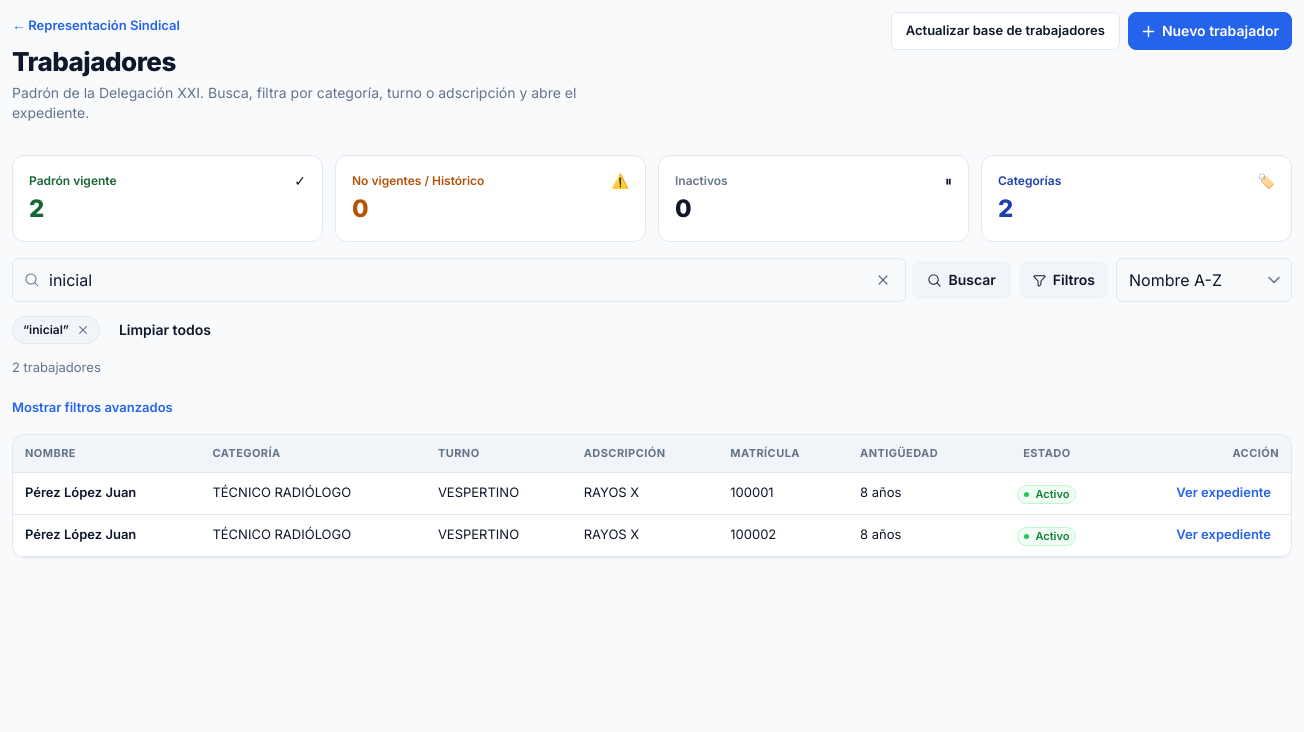
Test: Directorio de trabajadores · búsqueda › el botón de limpiar (X) limpia inmediatamente el texto y la búsqueda aplicada
The width and height of the screenshot is (1304, 732).
Click the button named "Limpiar búsqueda": (883, 280) [872,269,894,291]
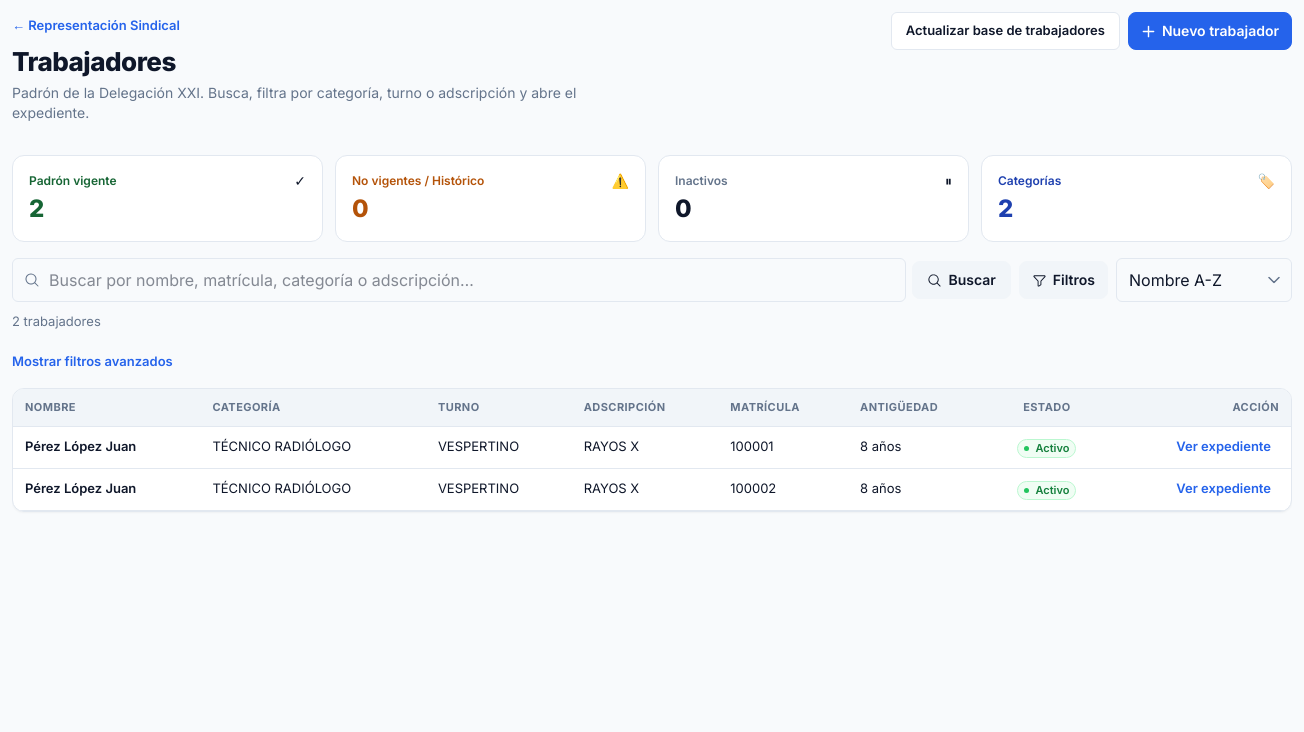
Expected: the field named "Buscar trabajador" is empty, [12,258,906,302]
